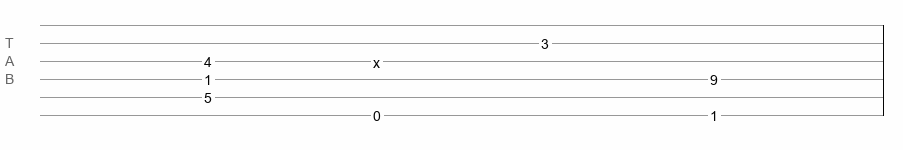0: (373, 108, 381, 118)
1: (204, 72, 212, 82), (710, 108, 718, 118)
3: (541, 36, 549, 46)
4: (204, 54, 212, 64)
5: (204, 90, 212, 100)
9: (710, 72, 718, 82)
x: (373, 55, 380, 63)
